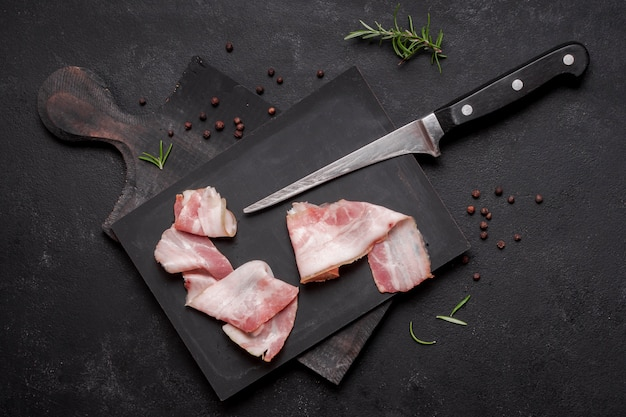knife: (243, 116, 445, 214)
